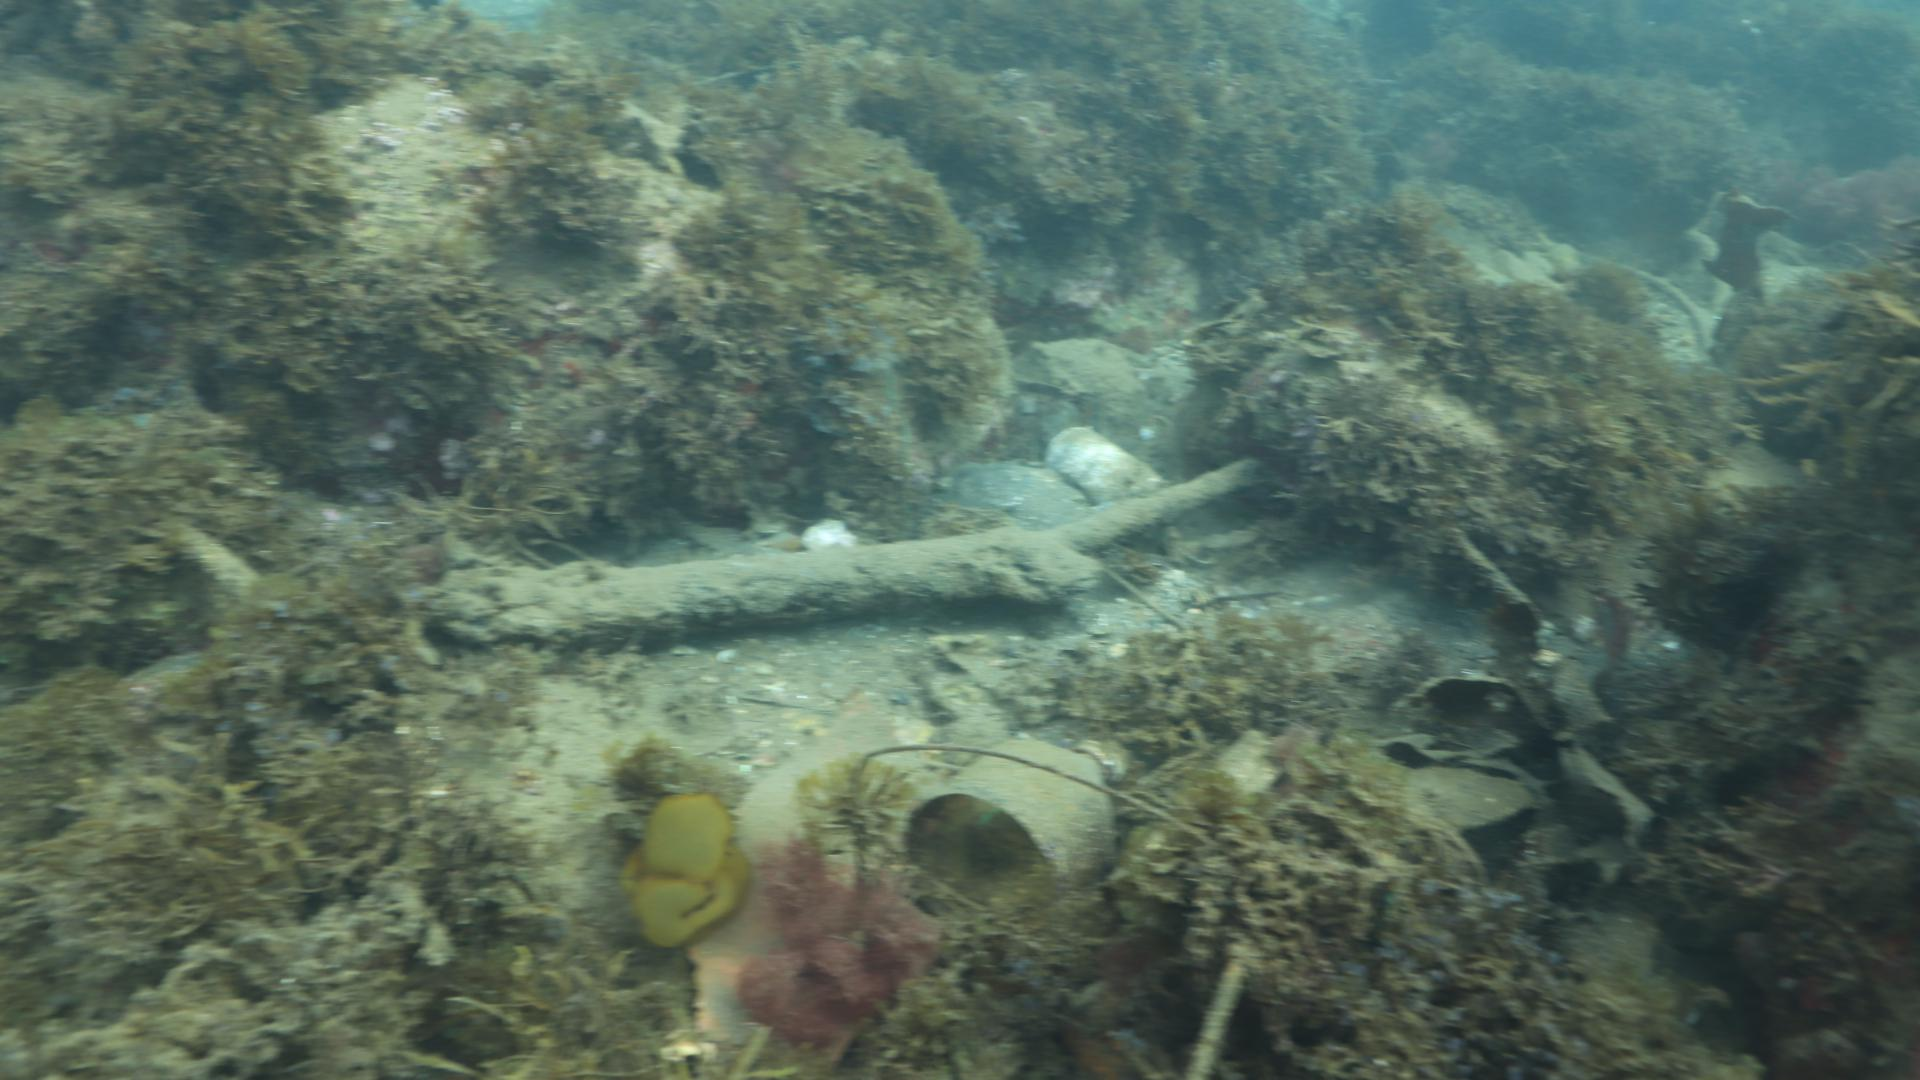rope: (181, 527, 256, 595)
wood: (429, 458, 1255, 646)
